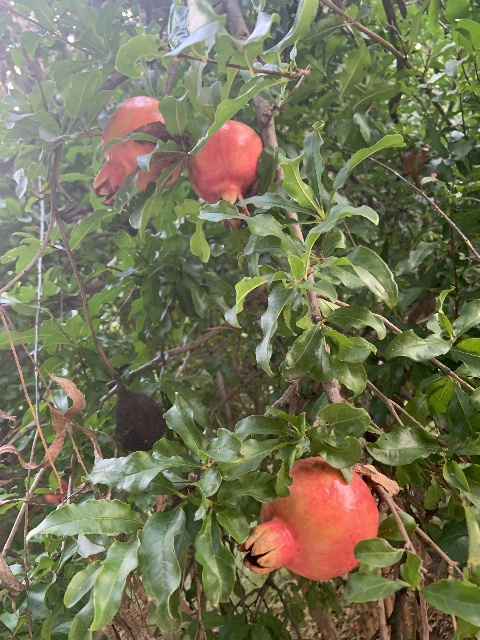ripe: (237, 456, 379, 580), (93, 96, 183, 204), (187, 118, 262, 227)
